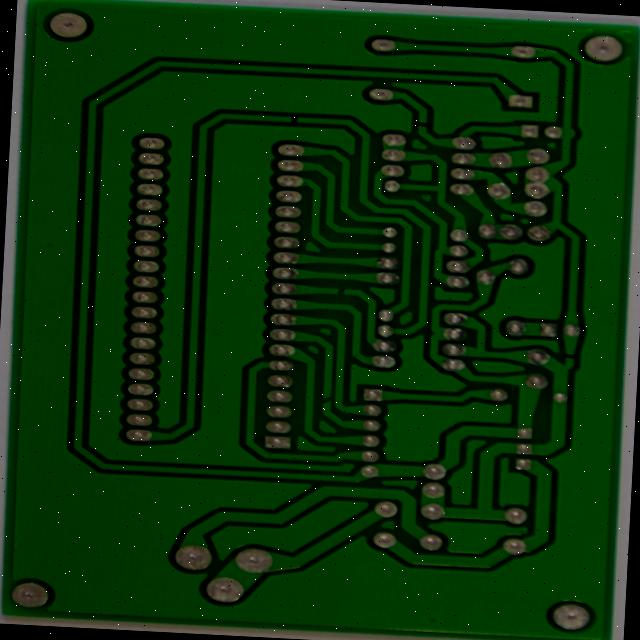open_circuit: (559, 349, 579, 364), (413, 118, 431, 131), (332, 285, 348, 299), (317, 394, 334, 407), (286, 113, 302, 125)
